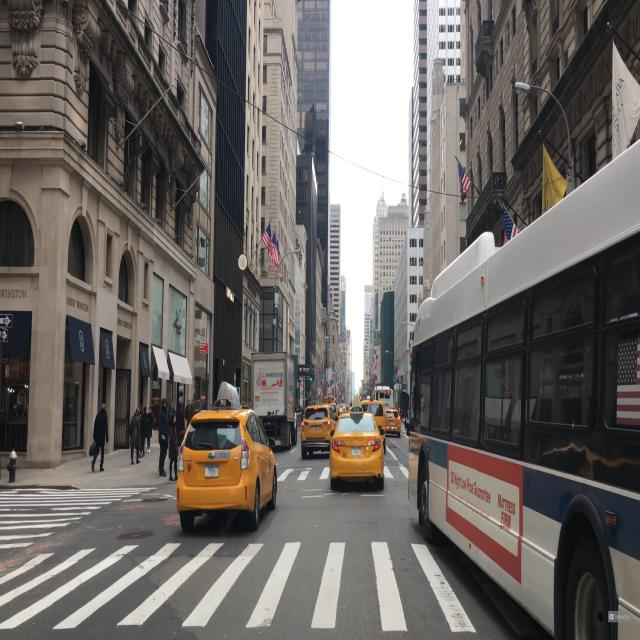Crosswalk: (0, 535, 487, 634), (0, 483, 148, 552)
